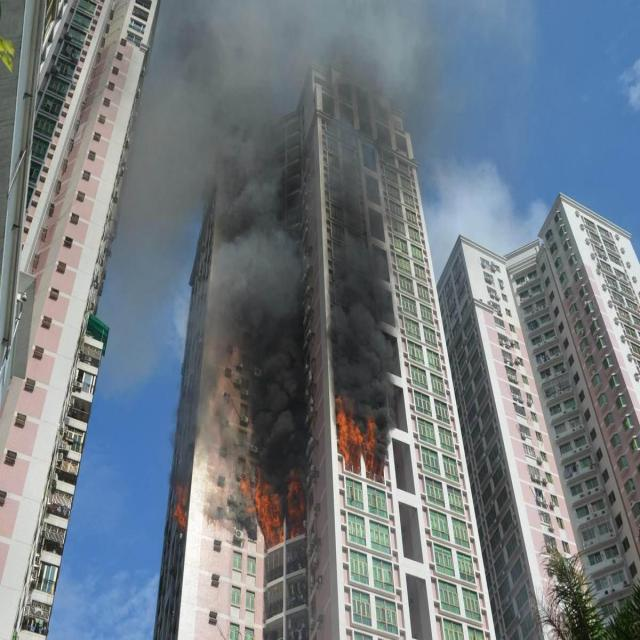Fire: (242, 471, 306, 542), (336, 400, 381, 476)
Smoke: (140, 0, 308, 470), (331, 177, 397, 402)
